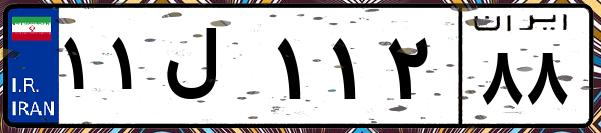1: (270, 28, 330, 110), (330, 28, 385, 110), (57, 26, 110, 100), (110, 28, 158, 98)
2: (385, 28, 445, 110)
8: (475, 38, 525, 113), (525, 38, 570, 115)
ل: (158, 20, 270, 120)
